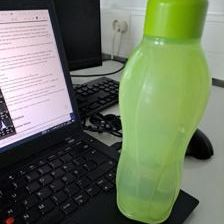bottle: (112, 1, 216, 220)
